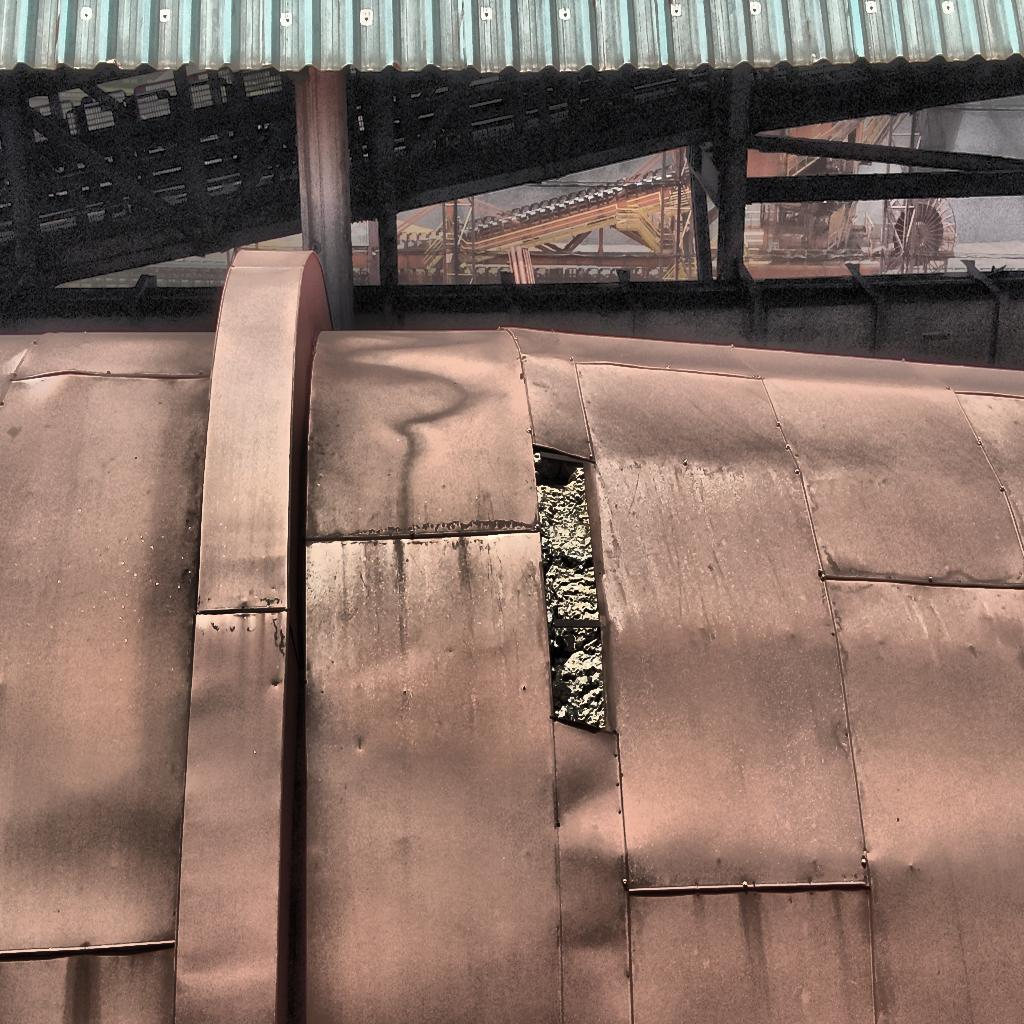Failures: (520, 423, 640, 823)
